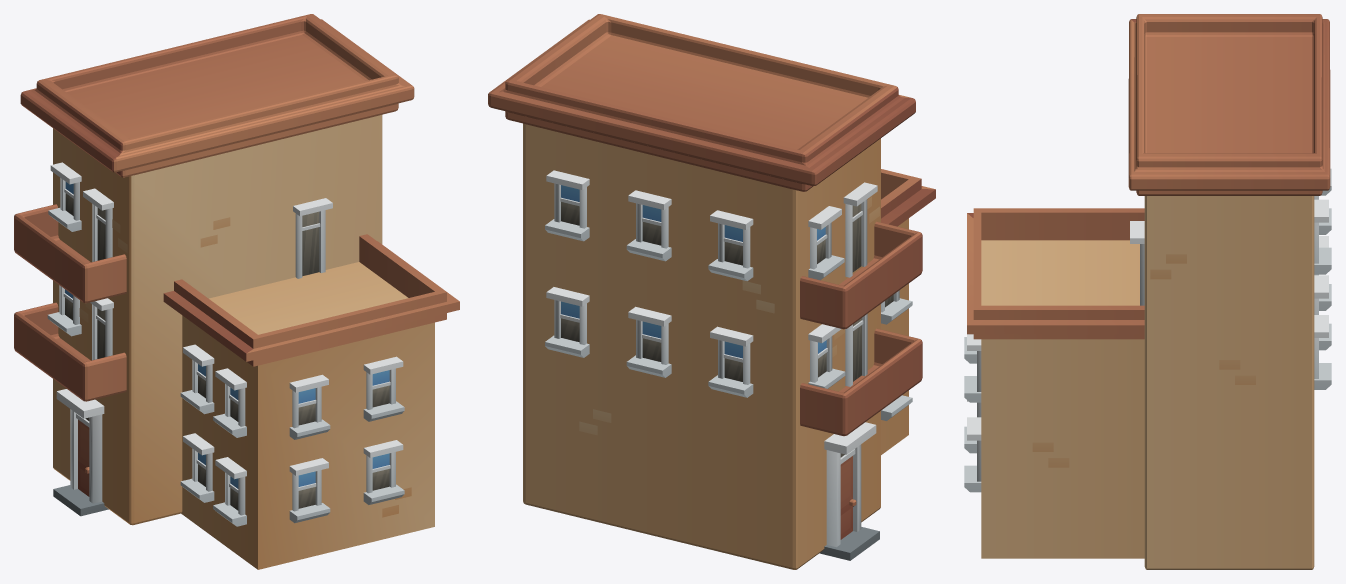
The model's file is EDIFICIO CREMA NUEVO.fbx.
3 renders of one model, left to right at view 1: azimuth 30°, elevation 25°; view 2: azimuth 150°, elevation 25°; view 3: azimuth 270°, elevation 25°, orthographic. The views are drawn at different scales.
Parts seen in each view (by area): view 1: Cube.020; view 2: Cube.020; view 3: Cube.020.
Boxes of the visible parts, x1,y1,x2,y2 form: Cube.020: [14, 14, 459, 569]; Cube.020: [488, 14, 935, 569]; Cube.020: [964, 14, 1331, 569].
Size of the model in its own units: 1702 by 1995 by 1574.
Materials: 3 (3 with a texture image).
